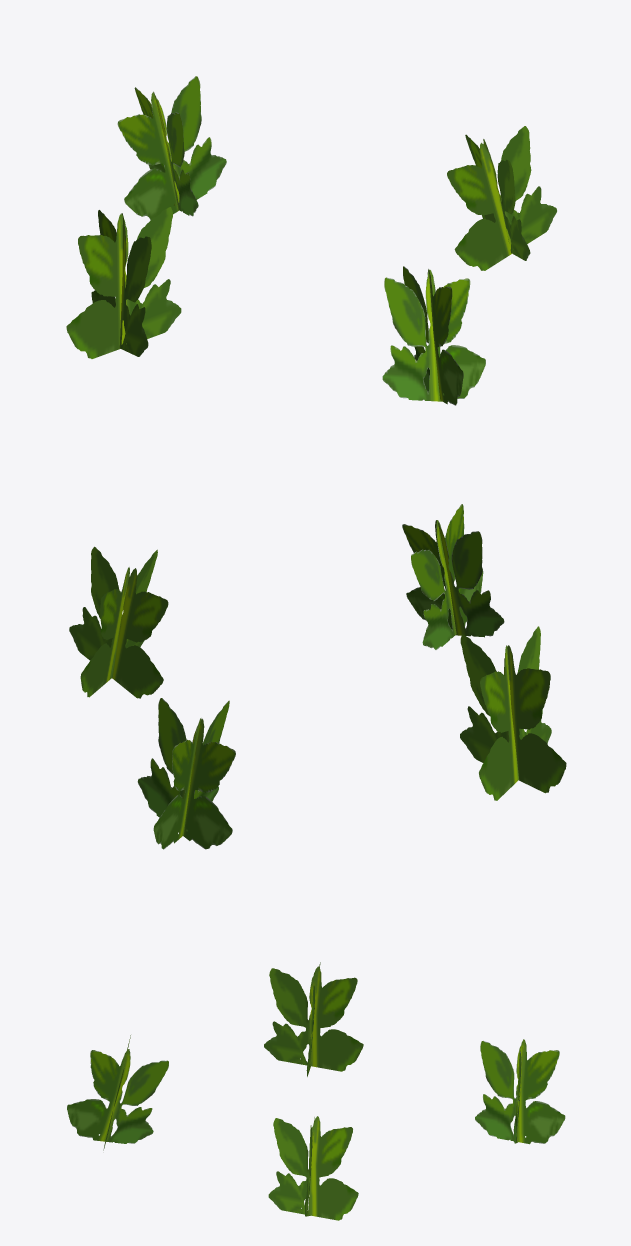
File: Tomato_Step01.fbx
The picture shows the model from 3 angles, top to bottom: view 1: azimuth 30°, elevation 25°; view 2: azimuth 150°, elevation 25°; view 3: azimuth 270°, elevation 25°; orthographic projection. The views are drawn at different scales.
Parts seen in each view (by area): view 1: Tomato_Step01; view 2: Tomato_Step01; view 3: Tomato_Step01.
Boxes of the visible parts, <box> form: Tomato_Step01: <box>66,76,556,405</box>; Tomato_Step01: <box>69,504,566,849</box>; Tomato_Step01: <box>67,962,565,1220</box>.
Size of the model in its own units: 137 by 49.91 by 154.
